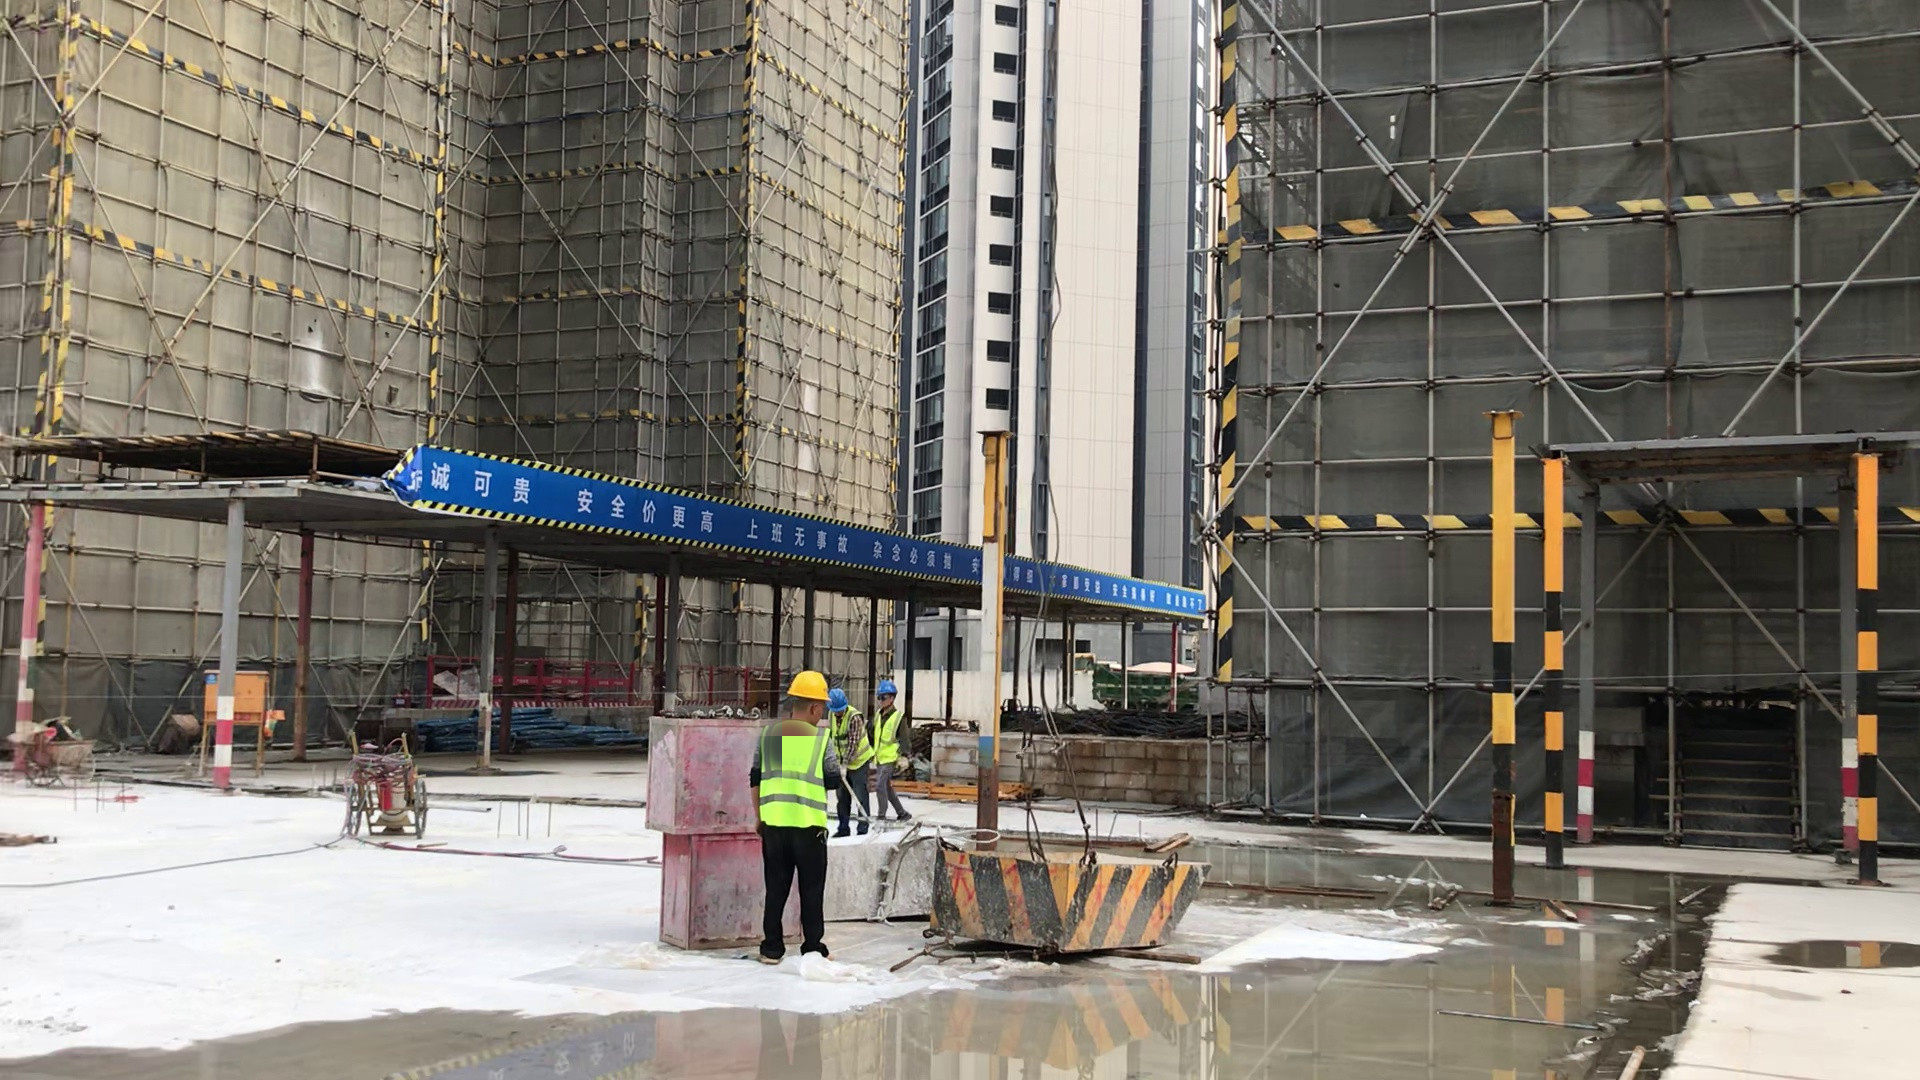ebox: (201, 669, 270, 723)
fence: (438, 654, 774, 714)
handcart: (339, 722, 428, 838)
helmet: (787, 670, 830, 702), (826, 688, 848, 711), (876, 681, 897, 695)
hopper: (929, 834, 1215, 951), (832, 826, 935, 926)
person: (754, 679, 840, 965), (823, 687, 872, 837), (870, 683, 912, 826)
slogan: (405, 443, 1206, 623)
vest: (763, 727, 825, 830), (829, 705, 872, 770), (874, 710, 903, 763)
